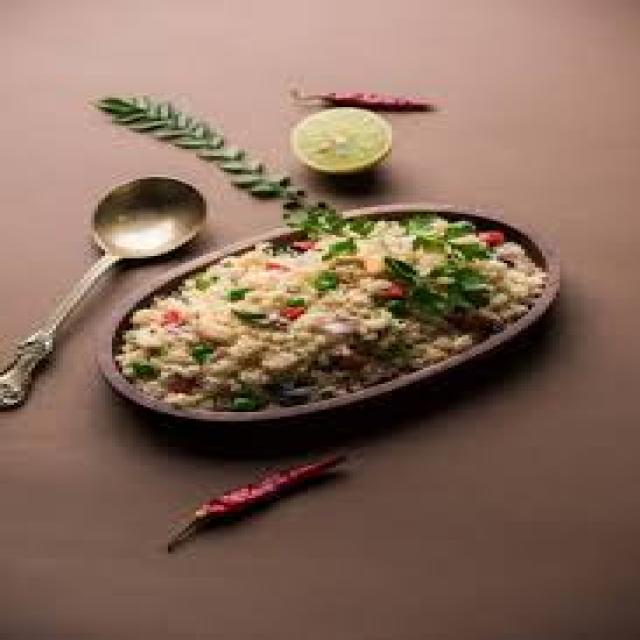POHA: (115, 202, 546, 405)
